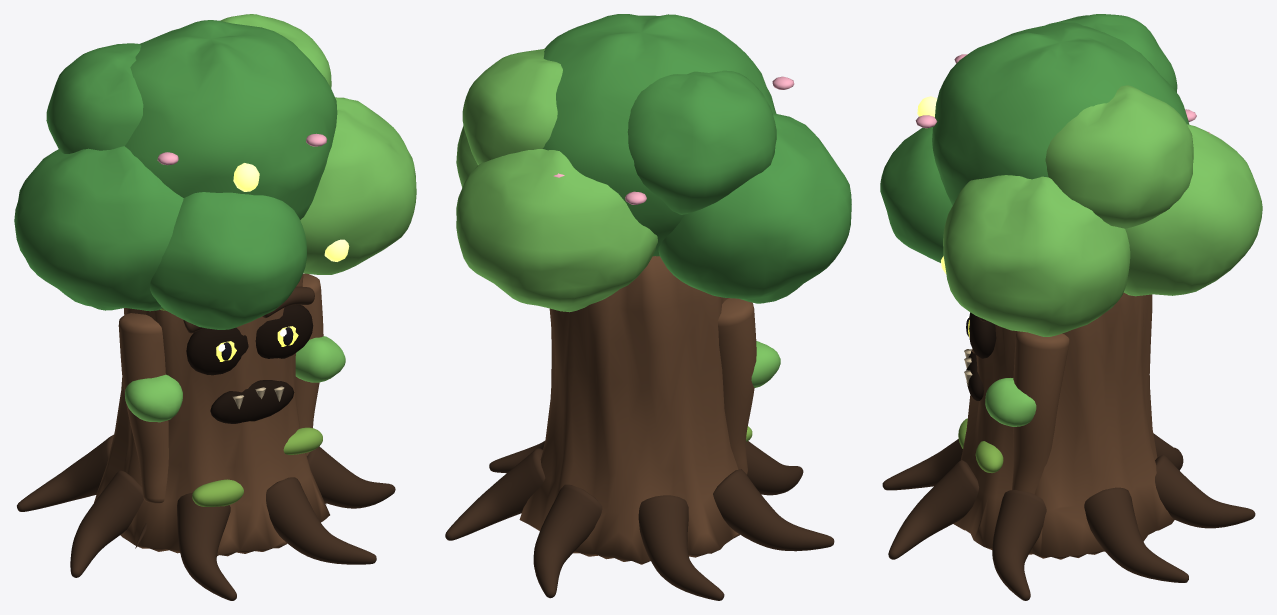
File: boss_treant.glb
The picture shows the model from 3 angles, left to right: view 1: azimuth 30°, elevation 25°; view 2: azimuth 150°, elevation 25°; view 3: azimuth 270°, elevation 25°; orthographic projection. The views are drawn at different scales.
Parts seen in each view (by area): view 1: leaf0, trunk, leaf2, leaf4, leaf1, leaf6, armL.001, root0, root6, root5, root4, root1 (+11 smaller); view 2: trunk, leaf3, leaf2, leaf0, leaf6, leaf5, armL.001, root4, root5, root3, root2, root6 (+3 smaller); view 3: trunk, leaf0, leaf1, leaf5, leaf3, leaf4, armR.001, root2, root1, root0, root3, leaf6 (+5 smaller).
Boxes of the visible parts, <box> form: leaf0: <box>125,20,337,219</box>; trunk: <box>94,274,329,556</box>; leaf2: <box>14,146,183,311</box>; leaf4: <box>150,192,306,329</box>; leaf1: <box>300,97,416,274</box>; leaf6: <box>46,43,143,153</box>; armL.001: <box>118,313,168,503</box>; root0: <box>266,477,376,564</box>; root6: <box>177,492,236,600</box>; root5: <box>70,470,143,577</box>; root4: <box>17,434,113,511</box>; root1: <box>307,446,395,508</box>; trunk: <box>519,256,739,564</box>; leaf3: <box>456,149,657,312</box>; leaf2: <box>658,113,851,303</box>; leaf0: <box>542,14,776,256</box>; leaf6: <box>627,70,776,214</box>; leaf5: <box>462,48,562,165</box>; armL.001: <box>717,298,756,474</box>; root4: <box>638,495,724,600</box>; root5: <box>713,469,834,551</box>; root3: <box>533,484,602,598</box>; root2: <box>445,448,545,540</box>; root6: <box>746,441,803,495</box>; trunk: <box>953,293,1174,559</box>; leaf0: <box>932,22,1189,205</box>; leaf1: <box>943,175,1130,336</box>; leaf5: <box>1045,85,1193,228</box>; leaf3: <box>1123,124,1262,296</box>; leaf4: <box>880,127,952,262</box>; armR.001: <box>1012,331,1069,494</box>; root2: <box>1084,487,1188,582</box>; root1: <box>992,490,1046,600</box>; root0: <box>888,460,978,559</box>; root3: <box>1155,455,1255,528</box>; leaf6: <box>1046,14,1177,92</box>.
Size of the model in its own units: 5.02 by 6.35 by 4.54.
